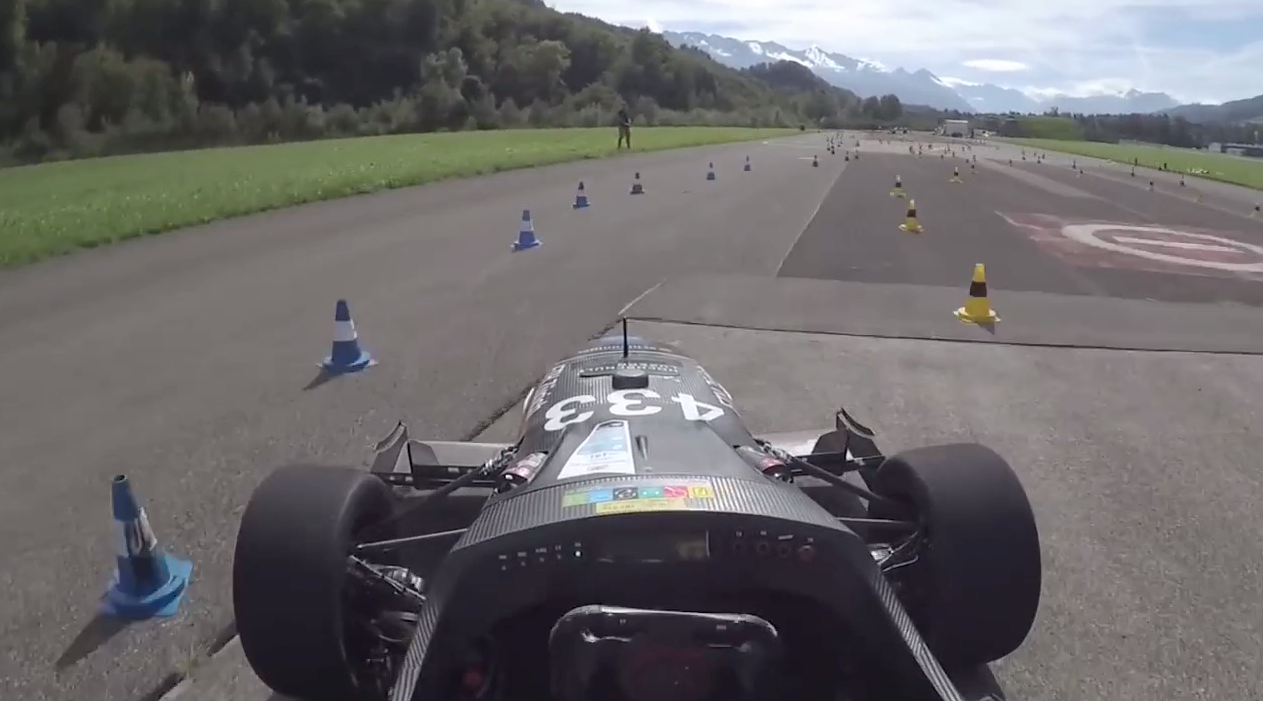lcone: (81, 466, 201, 630), (310, 293, 381, 382), (509, 203, 545, 252), (569, 178, 595, 210)
rcone: (948, 259, 1006, 328), (895, 198, 929, 239)
